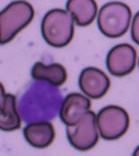L: (15, 78, 64, 124)
